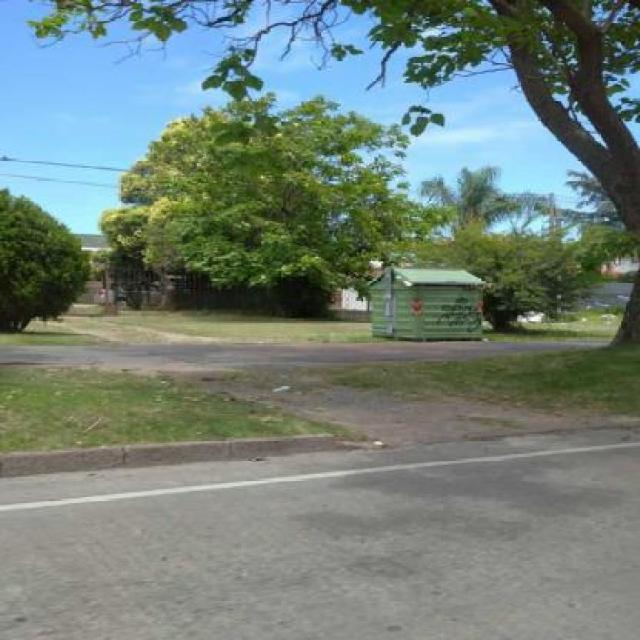garbage: (256, 377, 316, 403)
